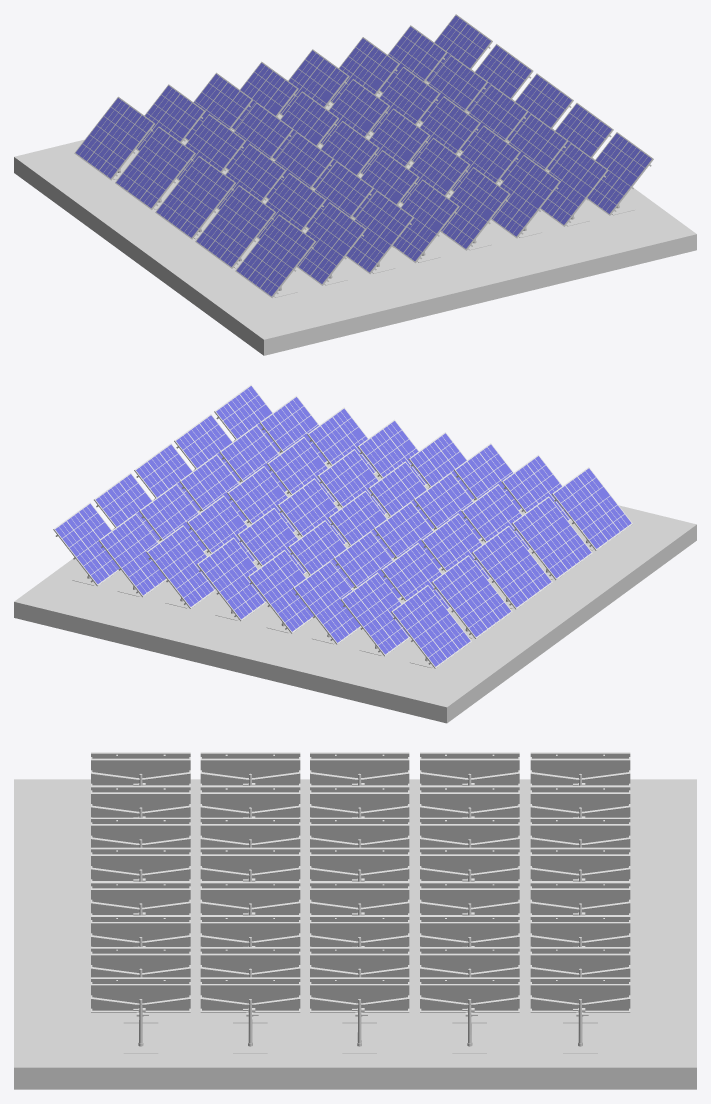
File: solar battery.fbx
The picture shows the model from 3 angles, top to bottom: view 1: azimuth 30°, elevation 25°; view 2: azimuth 150°, elevation 25°; view 3: azimuth 270°, elevation 25°; orthographic projection. The views are drawn at different scales.
Parts seen in each view (by area): view 1: pCube1, Plane_003_Environment_2_0 (×5), Plane_003_Environment_2_24, Plane_003_Environment_2_5, Plane_003_Environment_2_33, Plane_003_Environment_2_10, Plane_003_Environment_2_32, Plane_003_Environment_2_28, Plane_003_Environment_2_15, Plane_003_Environment_2_17, Plane_003_Environment_2_18, Plane_003_Environment_2_22 (+25 smaller); view 2: pCube1, Plane_003_Environment_2_0 (×5), Plane_003_Environment_2_17, Plane_003_Environment_2_1, Plane_003_Environment_2_31, Plane_003_Environment_2_6, Plane_003_Environment_2_30, Plane_003_Environment_2_25, Plane_003_Environment_2_11, Plane_003_Environment_2_18, Plane_003_Environment_2_21, Plane_003_Environment_2_16 (+25 smaller); view 3: pCube1, Plane_003_Environment_2_0 (×5), Plane_003_Environment_2_23, Plane_003_Environment_2_25, Plane_003_Environment_2_28, Plane_003_Environment_2_26, Plane_003_Environment_2_27, Plane_003_Environment_2_11, Plane_003_Environment_2_14, Plane_003_Environment_2_22, Plane_003_Environment_2_17, Plane_003_Environment_2_15 (+30 smaller).
Boxes of the visible parts, x1,y1,x2,y2 form: pCube1: [14, 70, 696, 355]; Plane_003_Environment_2_0 (×5): [74, 96, 316, 298]; Plane_003_Environment_2_24: [440, 167, 510, 250]; Plane_003_Environment_2_5: [297, 202, 366, 285]; Plane_003_Environment_2_33: [491, 155, 560, 238]; Plane_003_Environment_2_10: [346, 190, 414, 274]; Plane_003_Environment_2_32: [540, 143, 608, 226]; Plane_003_Environment_2_28: [587, 132, 653, 215]; Plane_003_Environment_2_15: [393, 179, 459, 263]; Plane_003_Environment_2_17: [279, 49, 349, 116]; Plane_003_Environment_2_18: [320, 79, 389, 145]; Plane_003_Environment_2_22: [400, 137, 470, 203]; pCube1: [14, 441, 696, 723]; Plane_003_Environment_2_0 (×5): [391, 467, 632, 668]; Plane_003_Environment_2_17: [196, 537, 266, 621]; Plane_003_Environment_2_1: [340, 572, 410, 656]; Plane_003_Environment_2_31: [146, 525, 215, 608]; Plane_003_Environment_2_6: [293, 561, 361, 644]; Plane_003_Environment_2_30: [98, 513, 166, 597]; Plane_003_Environment_2_25: [53, 502, 119, 586]; Plane_003_Environment_2_11: [247, 550, 313, 633]; Plane_003_Environment_2_18: [237, 508, 307, 574]; Plane_003_Environment_2_21: [277, 478, 347, 544]; Plane_003_Environment_2_16: [186, 495, 256, 562]; pCube1: [14, 779, 696, 1089]; Plane_003_Environment_2_0 (×5): [91, 752, 630, 785]; Plane_003_Environment_2_23: [200, 977, 300, 1012]; Plane_003_Environment_2_25: [530, 977, 630, 1012]; Plane_003_Environment_2_28: [91, 977, 190, 1012]; Plane_003_Environment_2_26: [420, 977, 519, 1012]; Plane_003_Environment_2_27: [310, 977, 409, 1012]; Plane_003_Environment_2_11: [530, 847, 630, 881]; Plane_003_Environment_2_14: [200, 847, 300, 881]; Plane_003_Environment_2_22: [200, 881, 300, 915]; Plane_003_Environment_2_17: [530, 881, 630, 915]; Plane_003_Environment_2_15: [91, 847, 190, 881].
Bounding box in the file's own units: 36.25 × 5.99 × 36.25.
